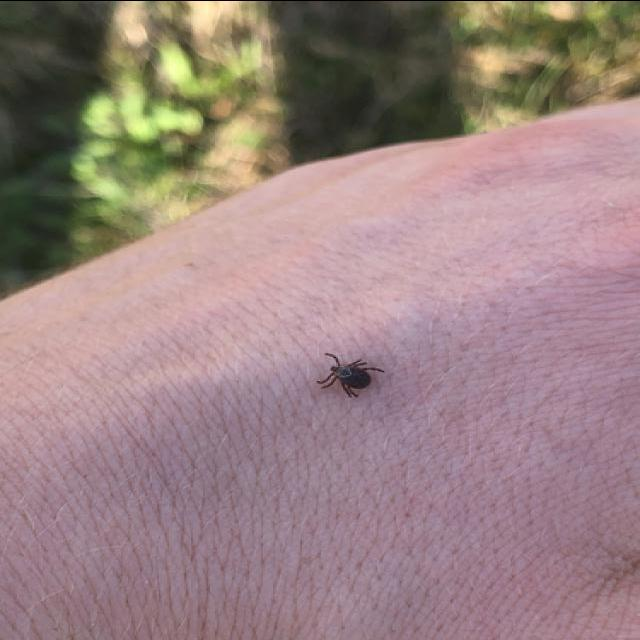Dermacentor Reticulatus-F: (316, 351, 389, 401)
